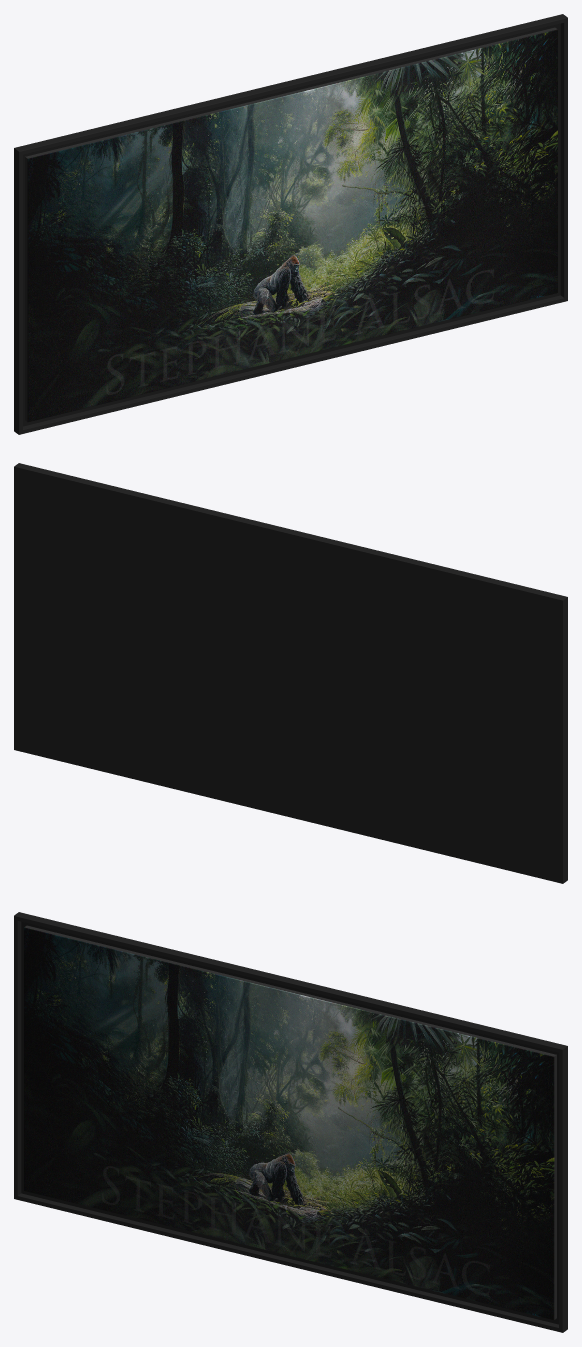
The model's file is tableau-gorille-jungle-monumental-551a86e5.glb.
The picture shows the model from 3 angles, top to bottom: view 1: azimuth 30°, elevation 25°; view 2: azimuth 150°, elevation 25°; view 3: azimuth 330°, elevation 25°; orthographic projection.
Parts seen in each view (by area): view 1: Painting; view 2: Painting; view 3: Painting.
Part boxes in pixels (x1=…): Painting: x1=14, y1=14, x2=567, y2=434; Painting: x1=14, y1=463, x2=567, y2=883; Painting: x1=14, y1=912, x2=567, y2=1332.
Bounding box in the file's own units: 2.49 × 1.23 × 0.04.
4 materials, 2 textured.
